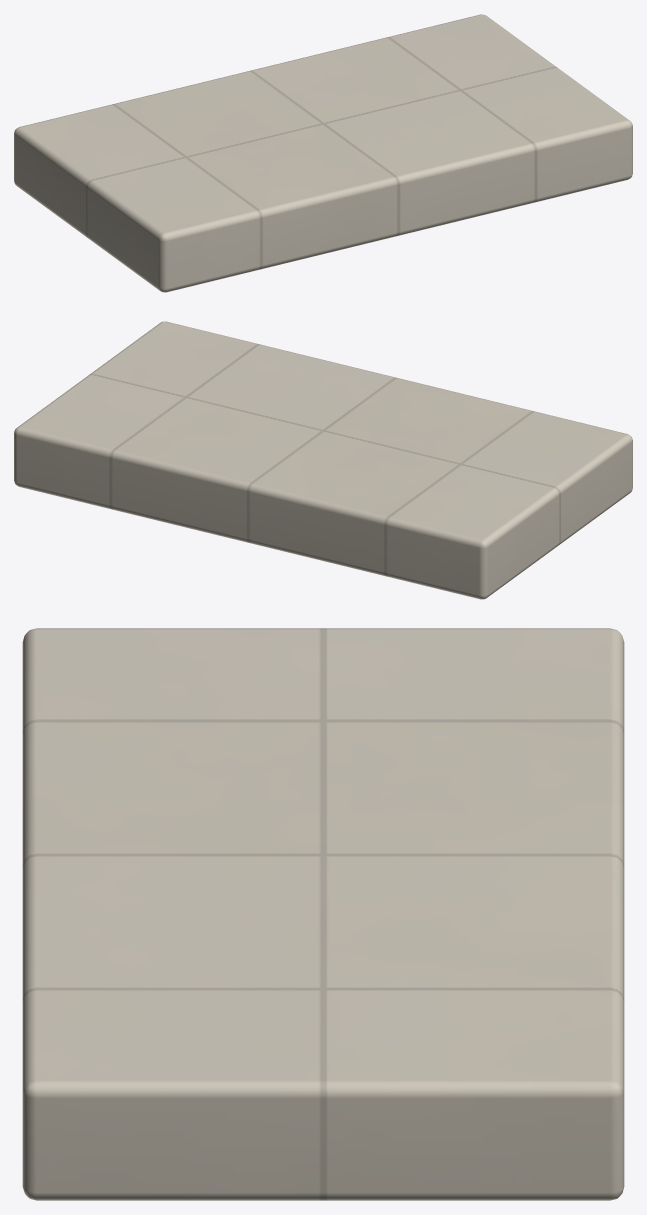
Rendered from BG_ENV_SURFACE_BRIDGE_001.glb.
3 renders of one model, top to bottom at view 1: azimuth 30°, elevation 25°; view 2: azimuth 150°, elevation 25°; view 3: azimuth 270°, elevation 25°, orthographic. The views are drawn at different scales.
Parts seen in each view (by area): view 1: BG_ENV_SURFACE_BRIDGE_001_mesh; view 2: BG_ENV_SURFACE_BRIDGE_001_mesh; view 3: BG_ENV_SURFACE_BRIDGE_001_mesh.
Boxes of the visible parts, x1,y1,x2,y2 form: BG_ENV_SURFACE_BRIDGE_001_mesh: (14, 14, 632, 292); BG_ENV_SURFACE_BRIDGE_001_mesh: (14, 321, 632, 599); BG_ENV_SURFACE_BRIDGE_001_mesh: (22, 628, 624, 1200).
Bounding box in the file's own units: 2 × 0.24 × 1.1.
Materials: 1 (1 with a texture image).
